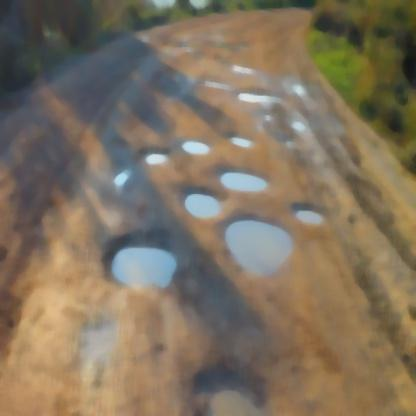Potholes: (216, 220, 301, 292), (116, 228, 172, 298), (224, 160, 274, 202), (176, 184, 226, 226), (139, 127, 172, 178), (235, 89, 290, 118), (174, 138, 218, 166), (294, 196, 316, 216)
